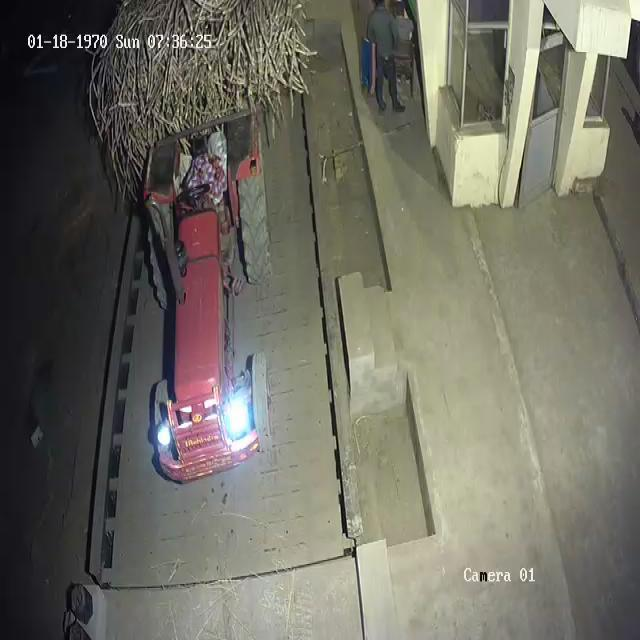Tratores - v5 YOLO V8L 2024-11-13: (147, 140, 270, 482)
